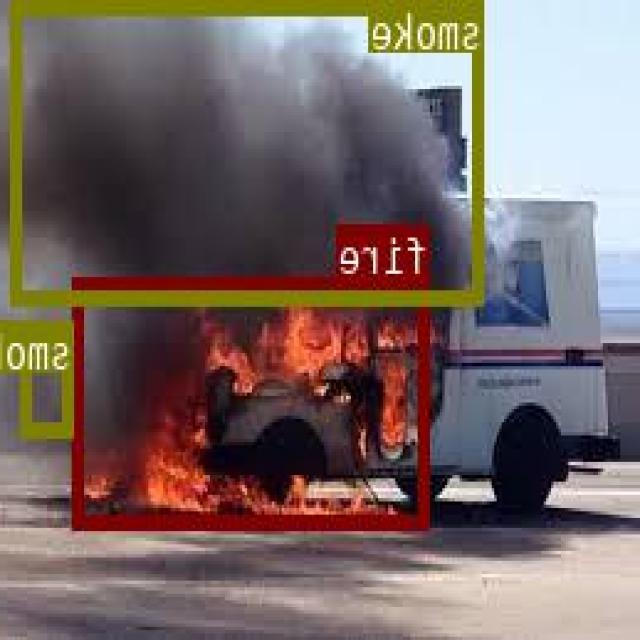fire: (75, 275, 432, 527)
smoke: (12, 0, 484, 304), (24, 320, 74, 434)
